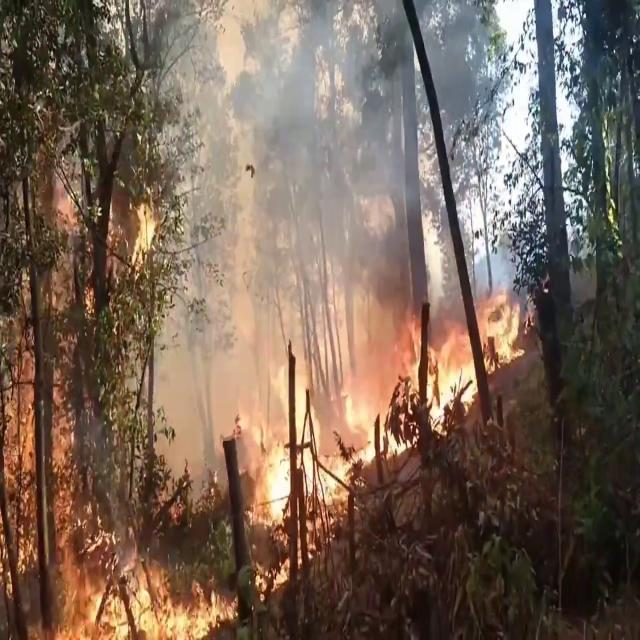Fire: (0, 202, 106, 608), (242, 350, 396, 564), (408, 286, 534, 421), (52, 551, 238, 640)
Smoke: (156, 2, 412, 348)
